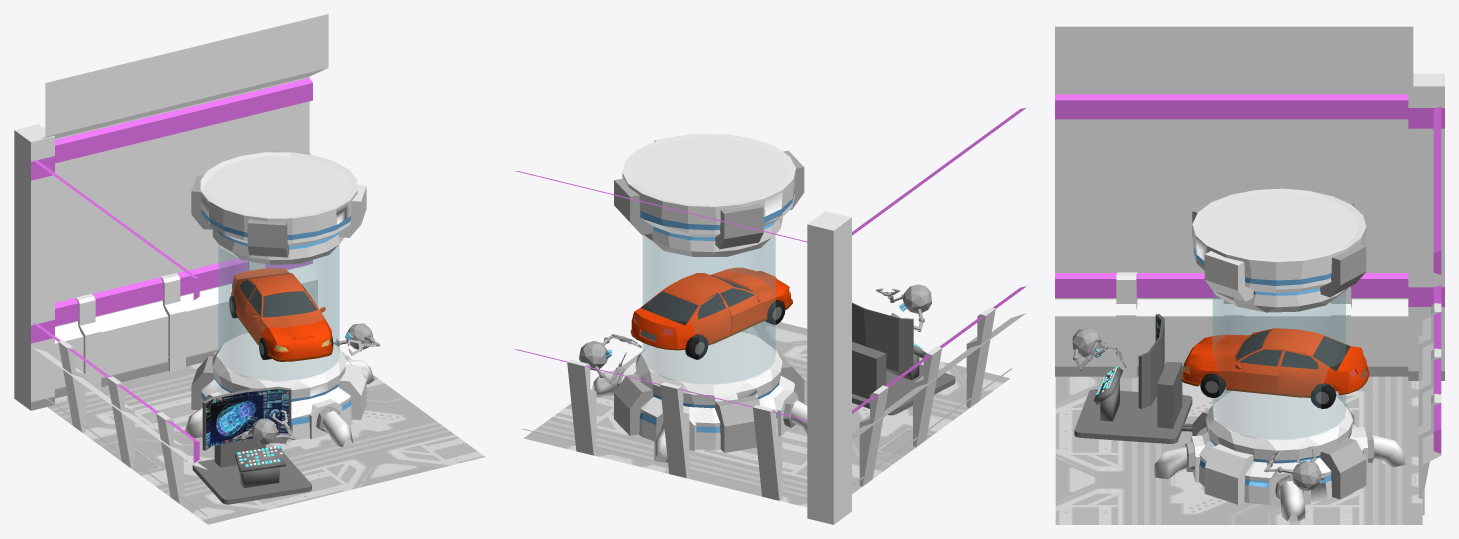
3 views of the same model, side by side, from view 1: azimuth 30°, elevation 25°; view 2: azimuth 150°, elevation 25°; view 3: azimuth 270°, elevation 25° (orthographic). The views are drawn at different scales.
Visible parts, largest first — view 1: Wall_4_L.005, scan.001, Floor.006, forGLSL_3.001, wall_M.002, Car.006, Wall_4_L.004, Plane.012, Cube.008, Plane.015, Plane.013, Plane.016 (+1 smaller); view 2: scan.001, forGLSL_3.001, Floor.006, wall_M.002, Car.006, Wall_4_L.005, Wall_4_L.004, Plane.012, Plane.013, Cube.008, tiles, Ball_left.006 (+1 smaller); view 3: Wall_4_L.004, scan.001, Floor.006, forGLSL_3.001, Car.006, wall_M.002, Wall_4_L.005, Cube.008, Plane.012, Plane.013, tiles, Ball_right.006 (+2 smaller).
Part boxes in pixels (x1,y1,x2,y2): Wall_4_L.005: (41,14,328,398); scan.001: (184,151,374,447); Floor.006: (47,352,484,524); forGLSL_3.001: (218,245,339,381); wall_M.002: (14,124,54,410); Car.006: (231,268,333,361); Wall_4_L.004: (33,160,207,516); Plane.012: (202,386,291,450); Cube.008: (192,452,311,504); Plane.015: (234,446,285,473); Plane.013: (214,438,265,467); Plane.016: (240,467,279,487); scan.001: (591,133,807,462); forGLSL_3.001: (643,235,775,384); Floor.006: (523,321,1009,507); wall_M.002: (807,211,851,524); Car.006: (630,267,792,350); Wall_4_L.005: (514,171,807,500); Wall_4_L.004: (852,108,1026,486); Plane.012: (852,302,913,371); Plane.013: (852,341,886,398); Cube.008: (852,364,955,415); tiles: (685,300,785,359); Ball_left.006: (902,284,931,313); Wall_4_L.004: (1055,26,1413,378); scan.001: (1154,188,1405,521); Floor.006: (1055,376,1422,524); forGLSL_3.001: (1213,291,1345,439); Car.006: (1181,328,1369,397); wall_M.002: (1408,73,1444,380); Wall_4_L.005: (1418,106,1441,515); Cube.008: (1074,389,1192,443); Plane.012: (1138,314,1164,408); Plane.013: (1157,362,1182,428); tiles: (1200,373,1336,408); Ball_right.006: (1292,461,1320,490).
Size of the model in its own units: 0.666 by 0.7112 by 0.698.
26 materials, 2 textured.
